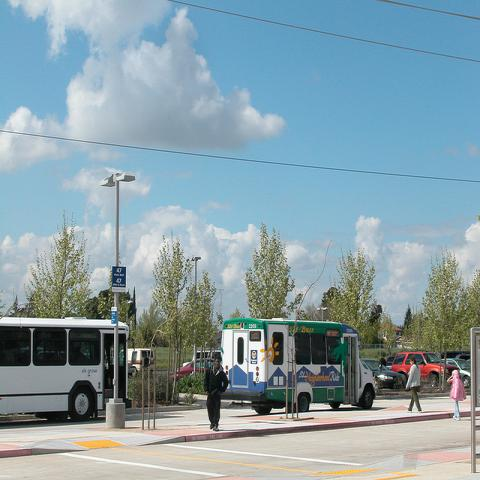bus: (221, 318, 376, 414), (3, 316, 133, 423)
car: (391, 351, 461, 388), (361, 358, 407, 389), (173, 356, 214, 384), (442, 357, 472, 389), (358, 358, 376, 409), (128, 347, 155, 376), (183, 348, 220, 366), (455, 354, 472, 363)
